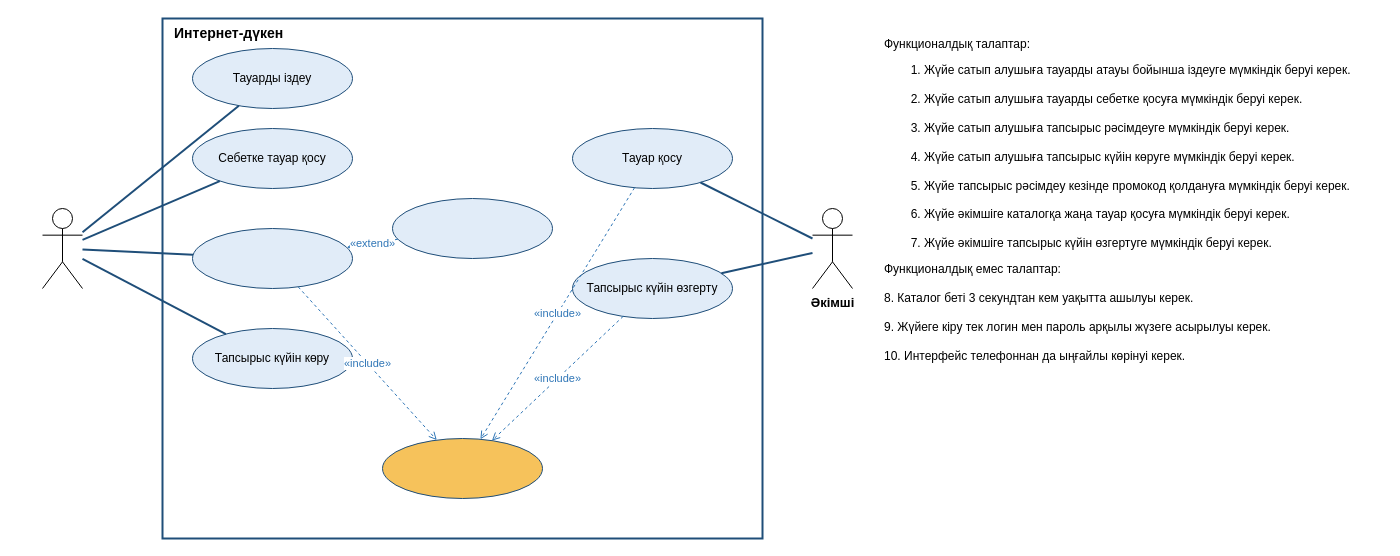
Image size: 1400x556. Some labels were removed from this diagram. The shapes that lost their labels are listed below. From the top down, each one's centre as x and y in pixels, then its label:
the point at 62,248: Сатып алушы
the point at 472,228: Промокод қолдану
the point at 272,258: Тапсырыс рәсімдеу
the point at 462,468: Жүйеге кіру
